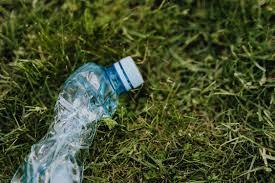BIODEGRADABLE: (12, 53, 156, 183)
